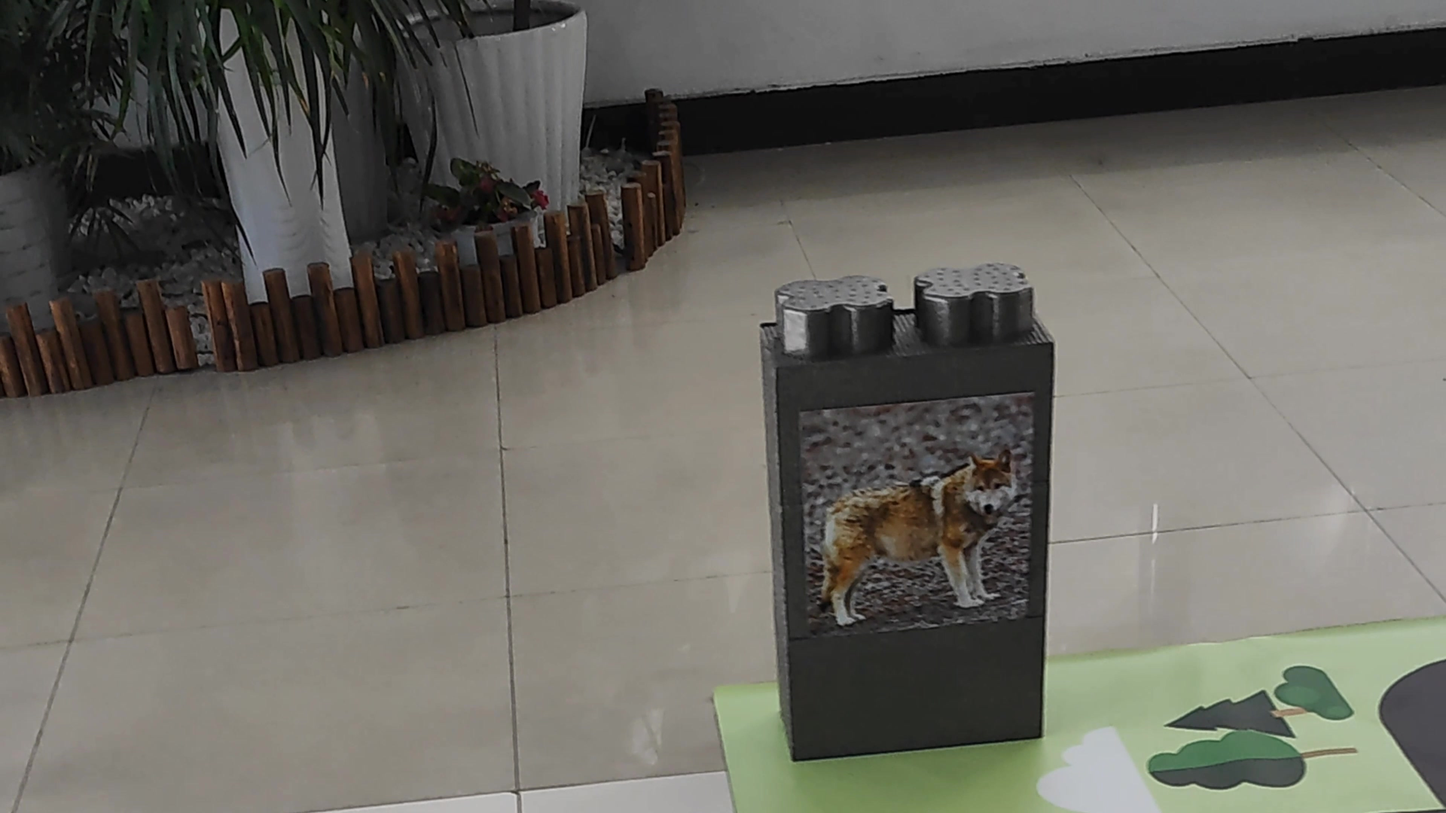wolf: (813, 415, 1025, 627)
